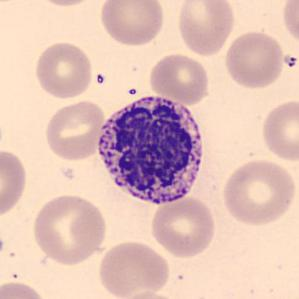Basophil: (91, 89, 211, 212)
Platelets: (94, 72, 106, 86), (125, 86, 139, 96), (0, 234, 5, 258)
RBC: (29, 191, 109, 266), (220, 156, 298, 228), (148, 194, 218, 259), (96, 238, 171, 298), (43, 98, 106, 162), (221, 29, 286, 90), (32, 39, 96, 100), (175, 0, 237, 57), (147, 51, 212, 105), (97, 0, 166, 48), (259, 97, 298, 163), (0, 147, 29, 220), (0, 279, 50, 299), (280, 0, 299, 48), (117, 289, 184, 299), (32, 0, 98, 7)
